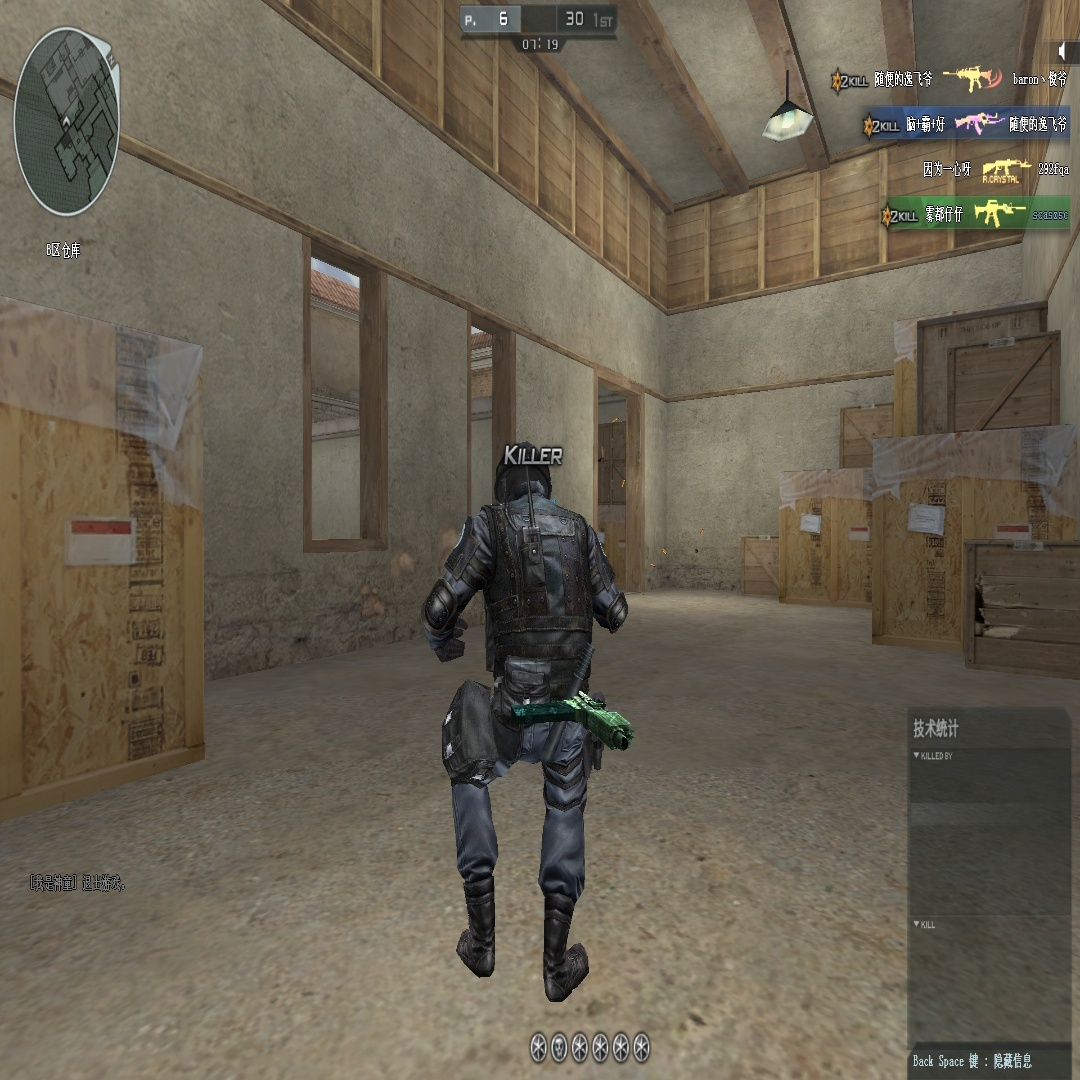head: (493, 438, 552, 506)
p: (421, 438, 632, 1002)
